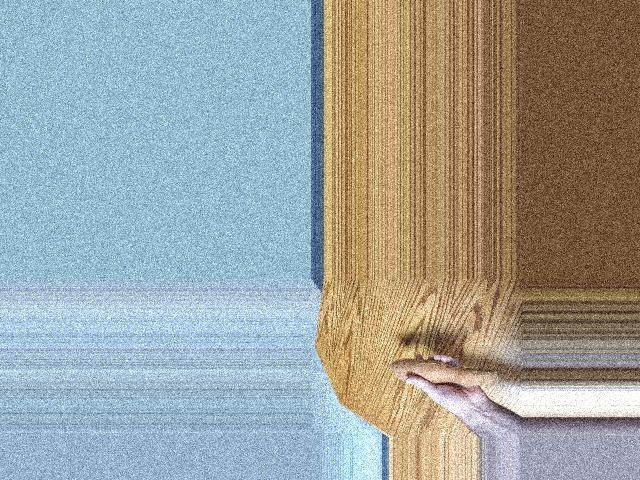sweet_potato: (384, 359, 500, 392)
